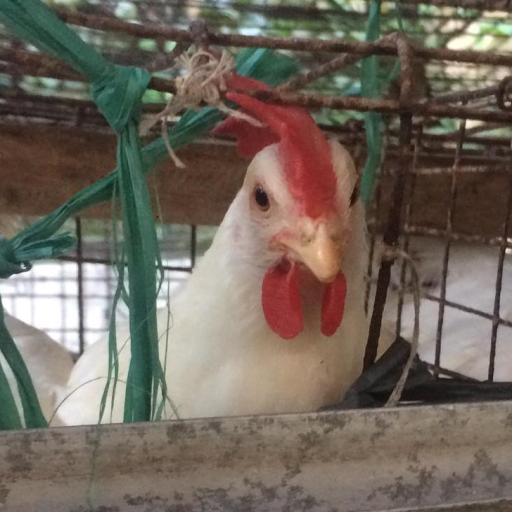healthy: (236, 67, 398, 340)
